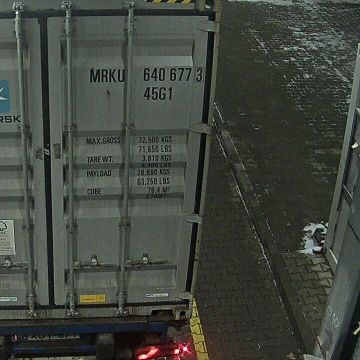serial_id: (89, 68, 203, 82)
